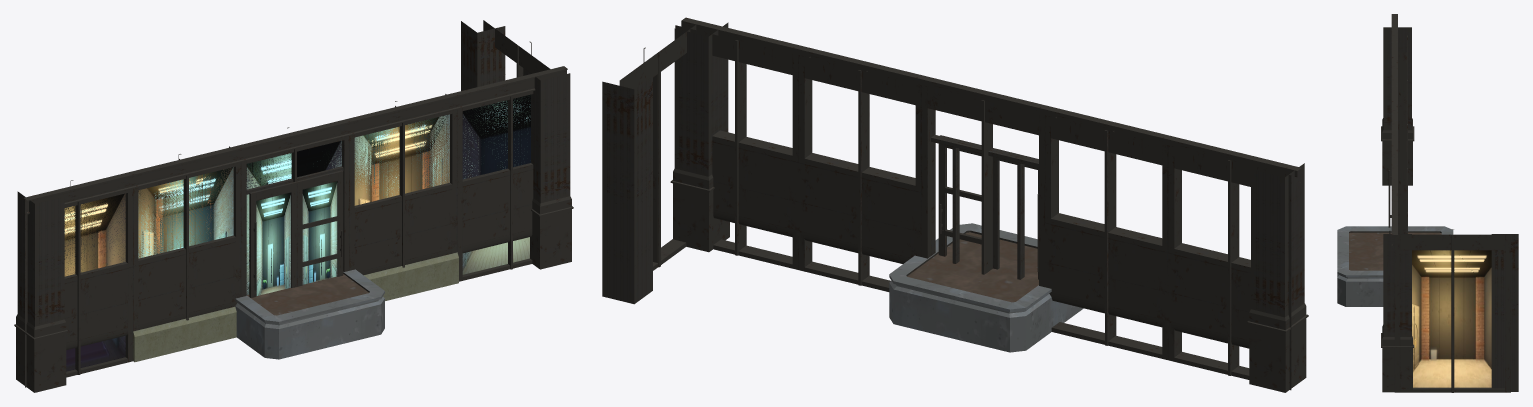
Rendered from downtown.glb.
3 renders of one model, left to right at view 1: azimuth 30°, elevation 25°; view 2: azimuth 150°, elevation 25°; view 3: azimuth 270°, elevation 25°, orthographic. The views are drawn at different scales.
Visible parts, largest first — view 1: DowntownEntry, DowntownUpper, DowntownPlanter, DowntownCorner; view 2: DowntownEntry, DowntownUpper, DowntownPlanter, DowntownCorner; view 3: DowntownCorner, DowntownEntry, DowntownPlanter, DowntownUpper.
Part boxes in pixels (x1=…): DowntownEntry: x1=14, y1=68, x2=573, y2=392; DowntownUpper: x1=24, y1=66, x2=567, y2=387; DowntownPlanter: x1=235, y1=269, x2=384, y2=359; DowntownCorner: x1=461, y1=20, x2=550, y2=90; DowntownEntry: x1=670, y1=22, x2=1308, y2=392; DowntownUpper: x1=681, y1=17, x2=1301, y2=375; DowntownPlanter: x1=889, y1=223, x2=1083, y2=352; DowntownCorner: x1=602, y1=25, x2=696, y2=304; DowntownCorner: x1=1394, y1=229, x2=1518, y2=392; DowntownEntry: x1=1381, y1=27, x2=1414, y2=392; DowntownPlanter: x1=1337, y1=226, x2=1453, y2=306; DowntownUpper: x1=1391, y1=14, x2=1407, y2=245.
Size of the model in its own units: 9 by 3 by 3.12.
Materials: 6 (6 with a texture image).
